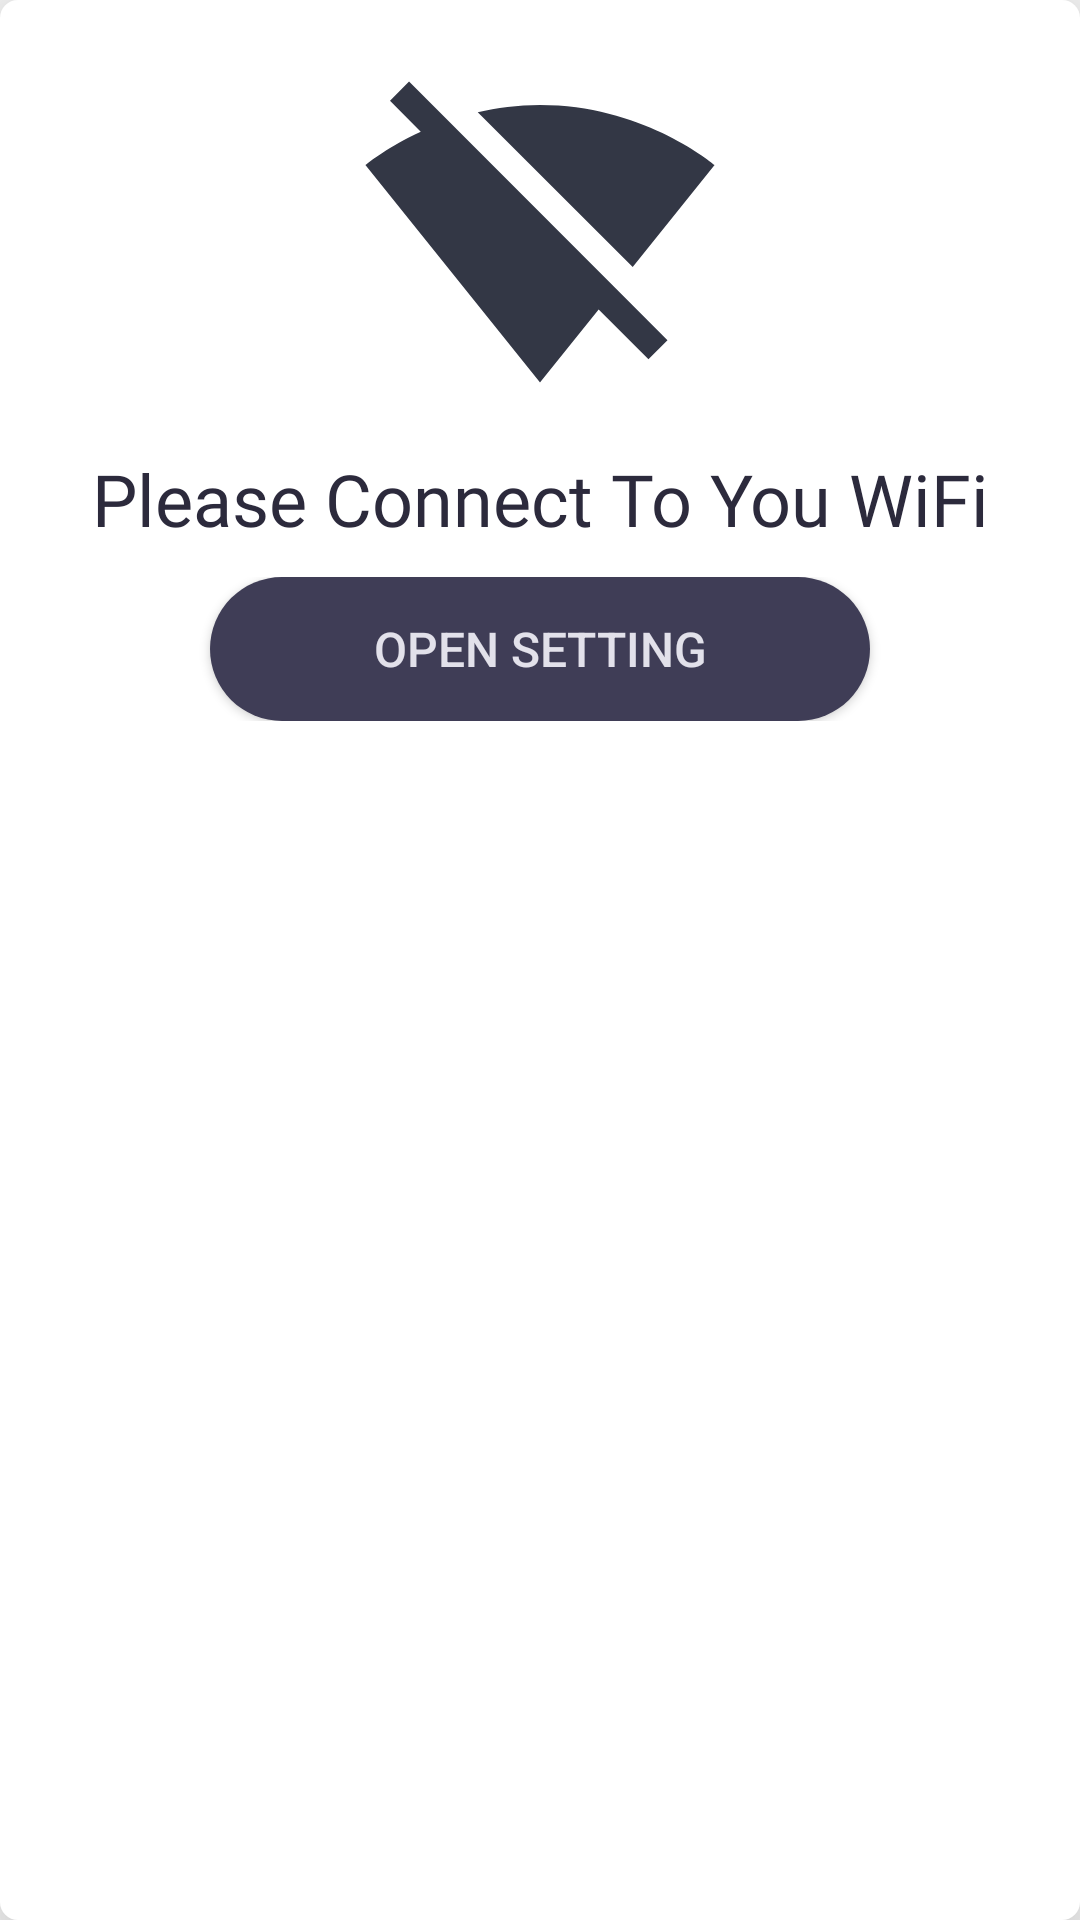

Where to tap for icons on this 1080×1920 app screen, as [x,y]:
netoff: [540,231]
